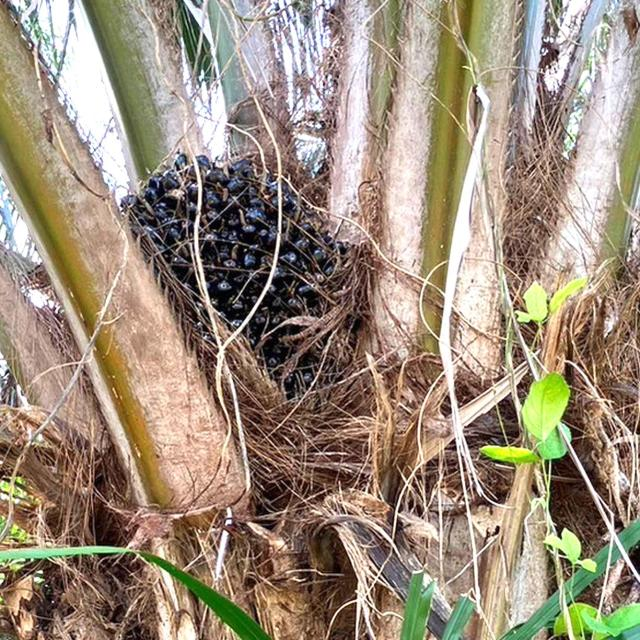unripe: (111, 153, 346, 421)
